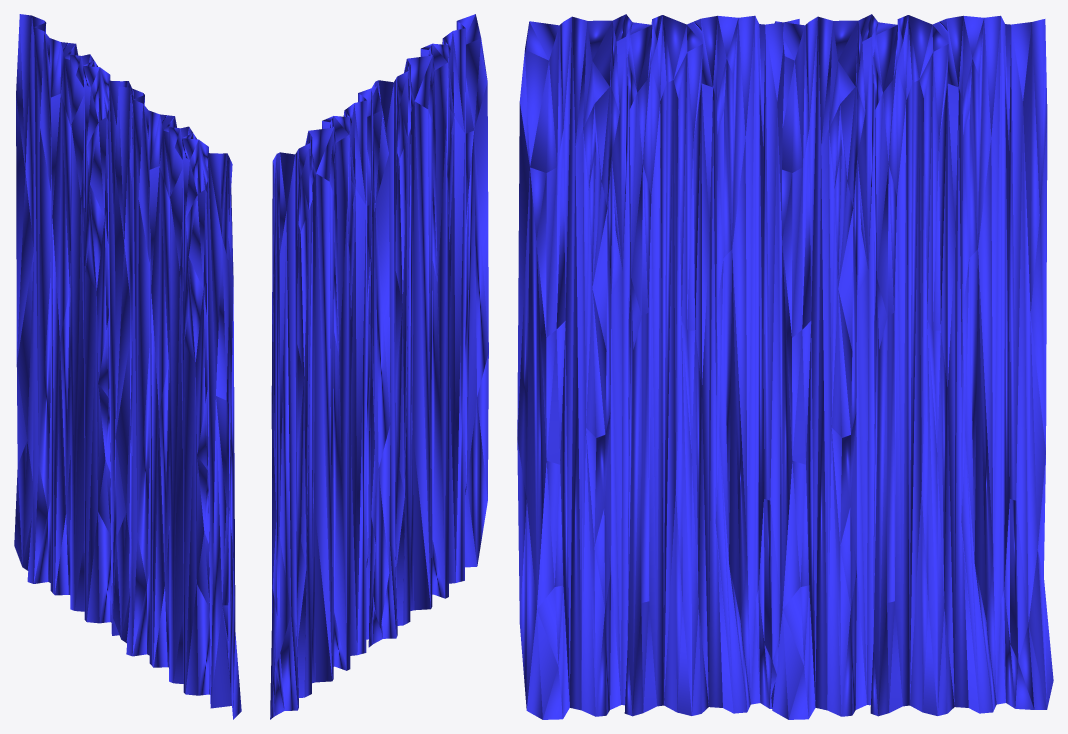
The model's file is curtain clean.fbx.
3 renders of one model, left to right at view 1: azimuth 30°, elevation 25°; view 2: azimuth 150°, elevation 25°; view 3: azimuth 270°, elevation 25°, orthographic. The views are drawn at different scales.
Visible parts, largest first — view 1: Line02, Line01; view 2: Line01, Line02; view 3: Line01, Line02.
Boxes of the visible parts, box(x1,y1,x2,y2) form: Line02: box(113, 86, 241, 719); Line01: box(14, 14, 133, 635); Line01: box(270, 86, 390, 719); Line02: box(368, 14, 488, 647); Line01: box(771, 14, 1053, 719); Line02: box(517, 14, 799, 719).
Bounding box in the file's own units: 12.79 × 243 × 171.
